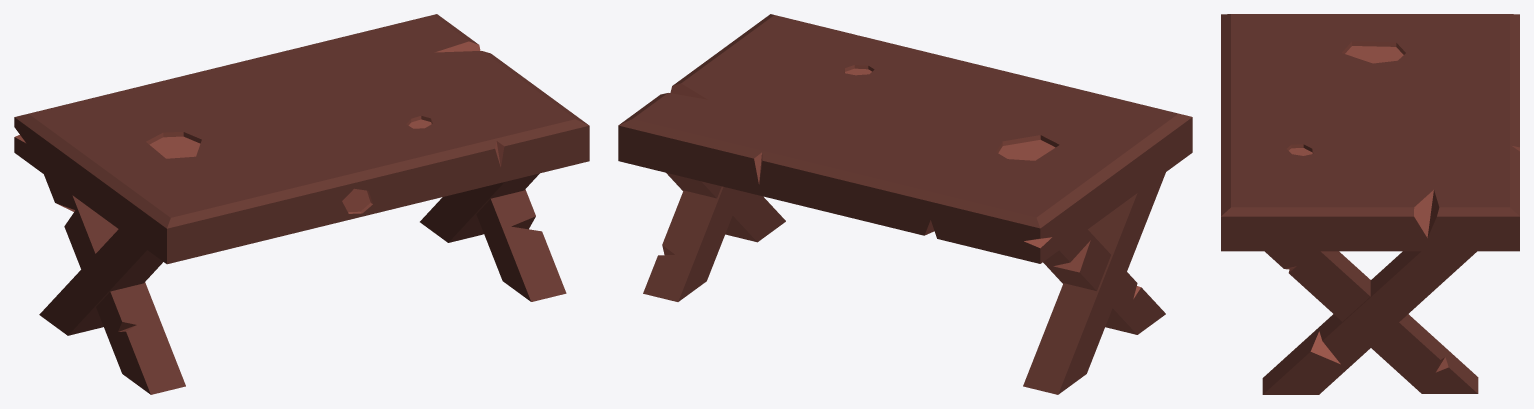
Rendered from Table_4_Red.fbx.
The picture shows the model from 3 angles, left to right: view 1: azimuth 30°, elevation 25°; view 2: azimuth 150°, elevation 25°; view 3: azimuth 270°, elevation 25°; orthographic projection. The views are drawn at different scales.
Parts seen in each view (by area): view 1: Table_4_Red_Part_1, Table_4_Red_Part_2; view 2: Table_4_Red_Part_1, Table_4_Red_Part_2; view 3: Table_4_Red_Part_1, Table_4_Red_Part_2.
Boxes of the visible parts, x1=… form: Table_4_Red_Part_1: x1=14, y1=14, x2=589, y2=394; Table_4_Red_Part_2: x1=15, y1=41, x2=535, y2=331; Table_4_Red_Part_1: x1=618, y1=14, x2=1192, y2=394; Table_4_Red_Part_2: x1=662, y1=65, x2=1140, y2=298; Table_4_Red_Part_1: x1=1221, y1=14, x2=1519, y2=394; Table_4_Red_Part_2: x1=1221, y1=41, x2=1519, y2=372.
Bounding box in the file's own units: 240 × 102 × 150.
